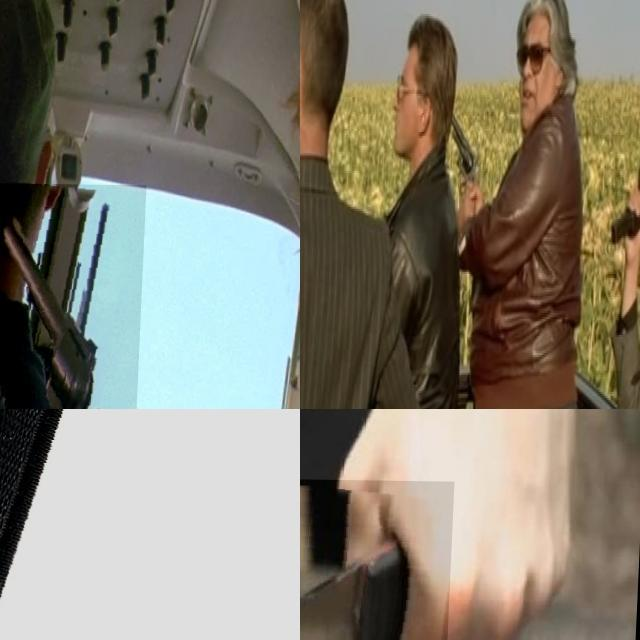-: (300, 476, 461, 640)
gun-knife-thesis - v11 Yolov5 augmented: (0, 409, 300, 640), (0, 182, 148, 409), (300, 70, 335, 295), (447, 80, 500, 222), (606, 108, 640, 296)
